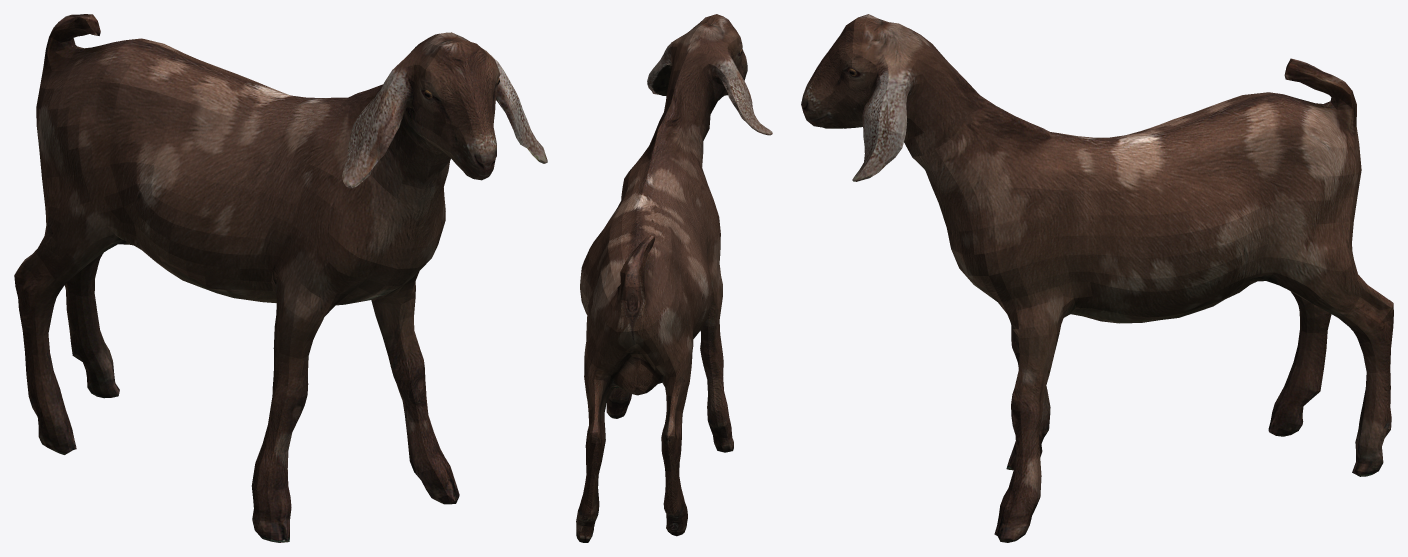
Rendered from NubianGoat.glb.
3 renders of one model, left to right at view 1: azimuth 30°, elevation 25°; view 2: azimuth 150°, elevation 25°; view 3: azimuth 270°, elevation 25°, orthographic. The views are drawn at different scales.
Parts seen in each view (by area): view 1: NubianGoat; view 2: NubianGoat; view 3: NubianGoat.
Boxes of the visible parts, x1,y1,x2,y2 form: NubianGoat: (14, 14, 547, 542); NubianGoat: (576, 14, 772, 542); NubianGoat: (801, 14, 1393, 542).
Bounding box in the file's own units: 0.3718 × 0.6814 × 0.7437.
1 material, 1 textured.
